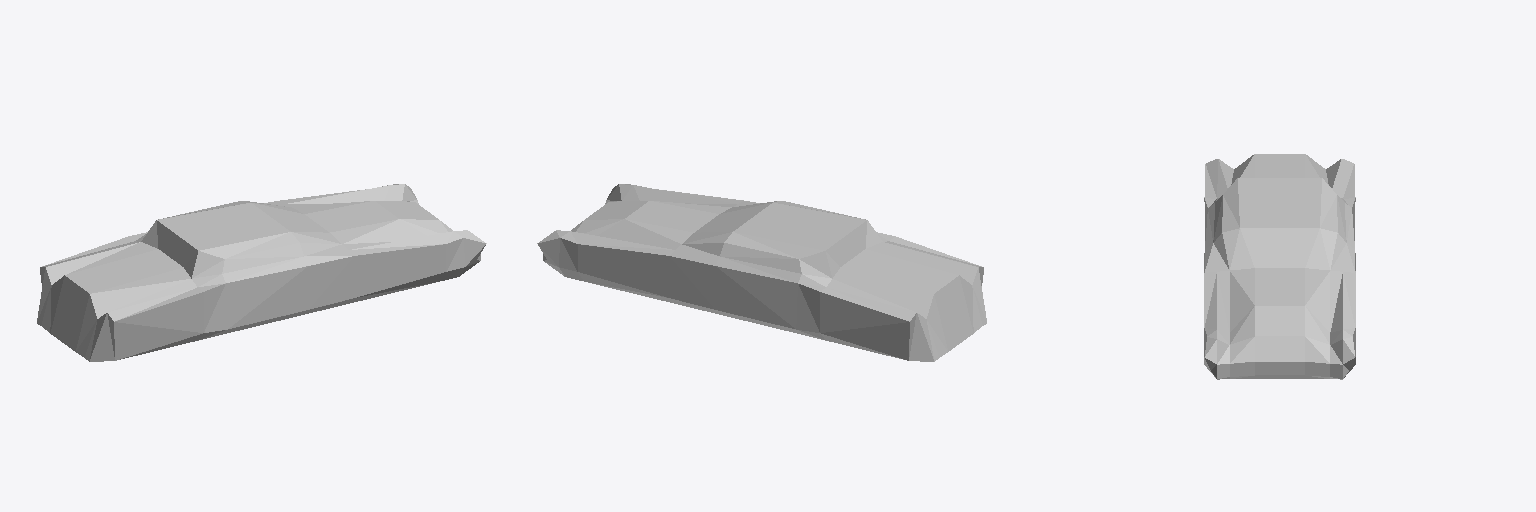
Rendered from CorvegaWorkingLOD.obj.
3 renders of one model, left to right at view 1: azimuth 30°, elevation 25°; view 2: azimuth 150°, elevation 25°; view 3: azimuth 270°, elevation 25°, orthographic.
Visible parts, largest first — view 1: CorvegaV8LOD:collider; view 2: CorvegaV8LOD:collider; view 3: CorvegaV8LOD:collider.
Part boxes in pixels (left/top/right/bottom): CorvegaV8LOD:collider: left=37, top=184, right=486, bottom=361; CorvegaV8LOD:collider: left=537, top=184, right=986, bottom=361; CorvegaV8LOD:collider: left=1204, top=154, right=1355, bottom=379.
Size of the model in its own units: 543 by 107 by 184.